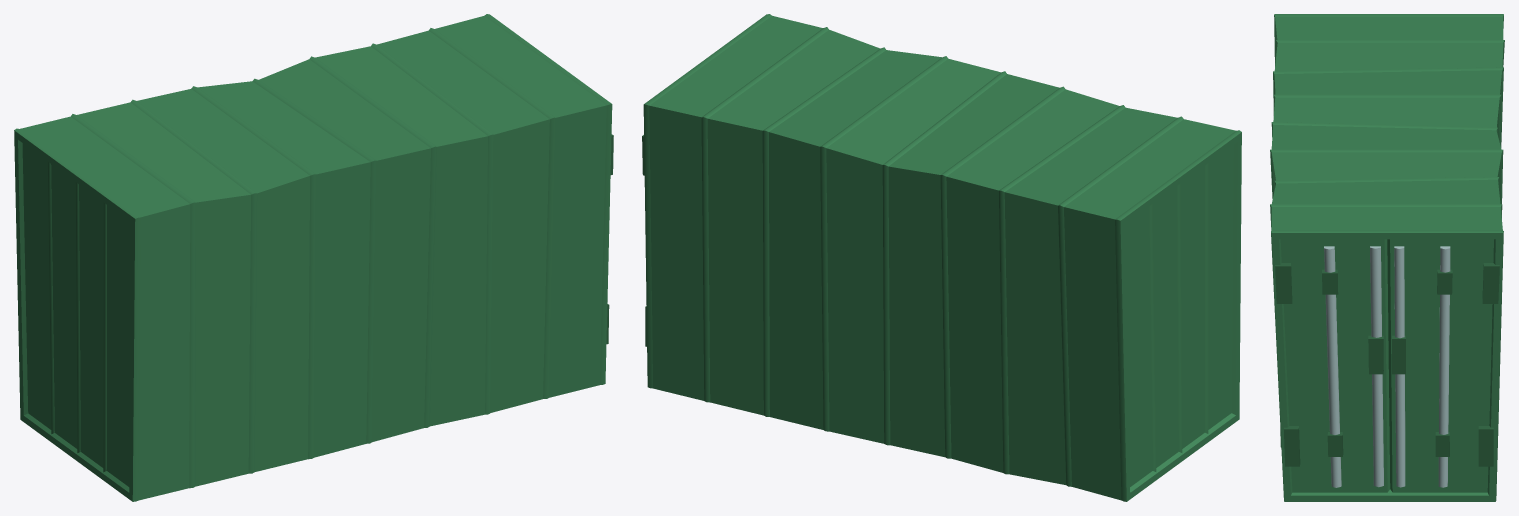
Rendered from BO_Container_01.fbx.
3 renders of one model, left to right at view 1: azimuth 30°, elevation 25°; view 2: azimuth 150°, elevation 25°; view 3: azimuth 270°, elevation 25°, orthographic. The views are drawn at different scales.
Visible parts, largest first — view 1: BO_Container_01; view 2: BO_Container_01; view 3: BO_Container_01.
Boxes of the visible parts, x1,y1,x2,y2 form: BO_Container_01: (14,14,613,501); BO_Container_01: (642,14,1241,501); BO_Container_01: (1270,14,1504,501).
Bounding box in the file's own units: 700 × 400 × 315.
